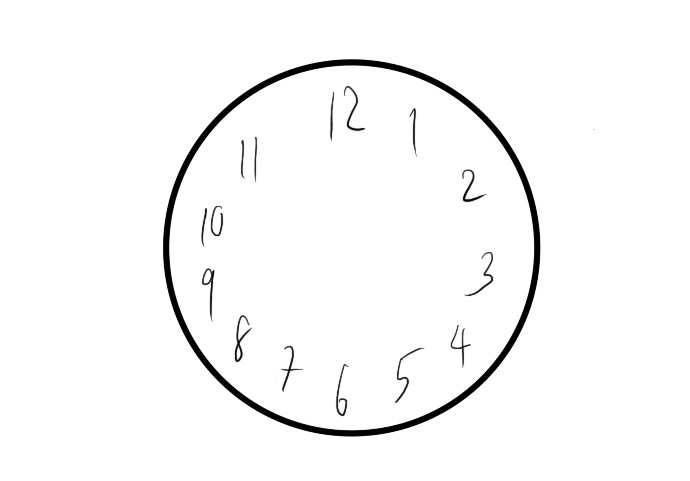eight: (231, 308, 253, 365)
eleven: (238, 133, 258, 183)
five: (396, 344, 425, 405)
four: (451, 323, 472, 371)
nine: (196, 265, 219, 325)
one: (407, 104, 420, 159)
seven: (277, 342, 305, 392)
six: (334, 360, 350, 417)
ten: (198, 201, 223, 248)
three: (466, 245, 496, 296)
twelve: (326, 84, 365, 140)
two: (458, 167, 486, 205)
